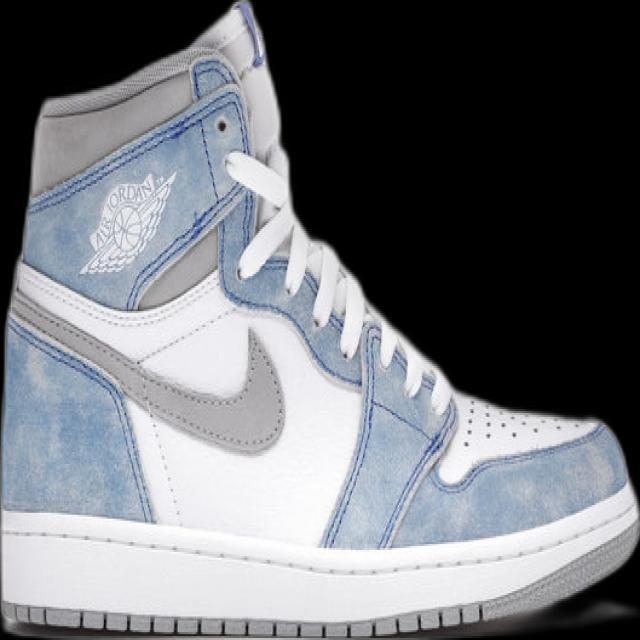J1_InsoleChar: (0, 0, 639, 639)
J1_ShoeLogo: (77, 168, 178, 276)
J1_StitchPattern: (220, 143, 602, 486), (1, 488, 638, 635), (221, 144, 454, 418), (7, 285, 288, 454), (221, 146, 370, 361), (1, 600, 487, 638), (434, 390, 601, 487), (456, 394, 598, 449)
